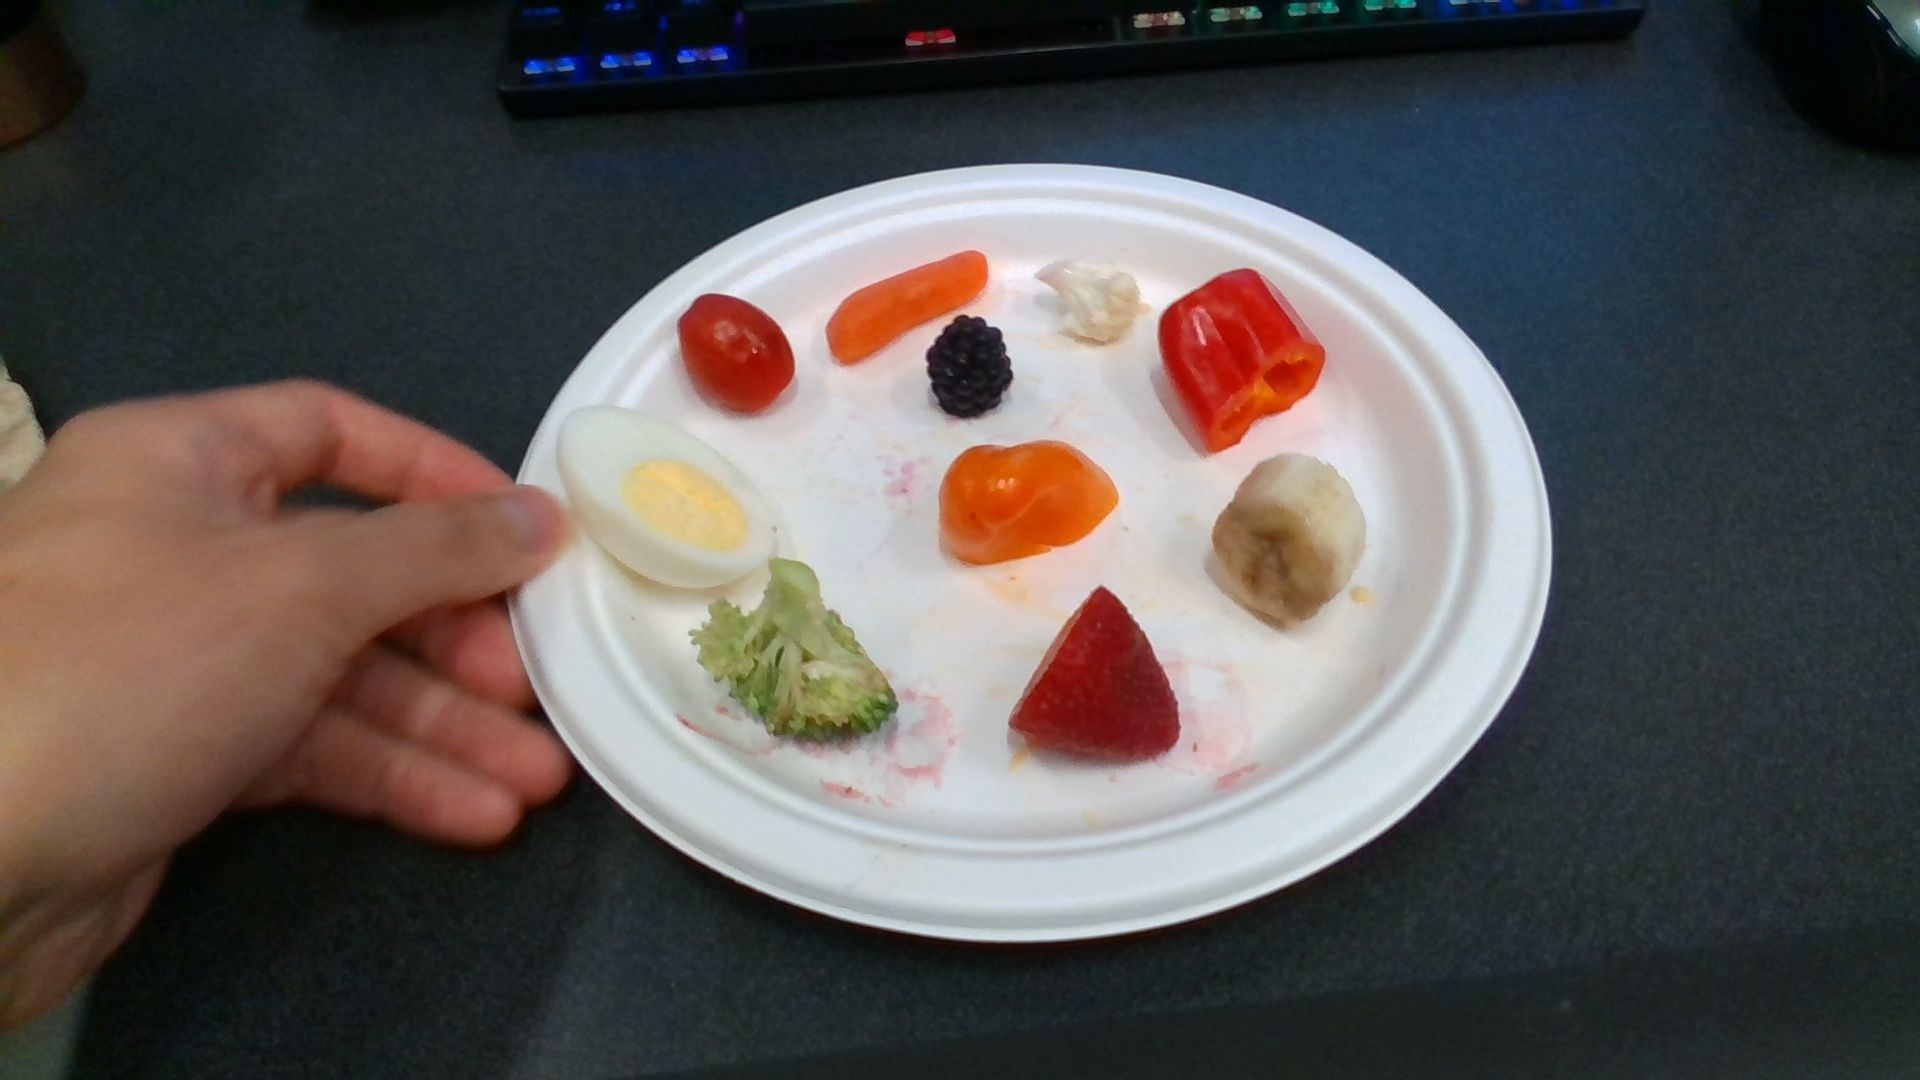banana: (1215, 456, 1362, 621)
bell_pepper: (1156, 270, 1323, 446), (938, 440, 1120, 563)
blackberry: (927, 316, 1015, 418)
broccoli: (694, 560, 899, 741)
carrot: (827, 251, 986, 363)
cauliflower: (1035, 258, 1139, 345)
cherry_tomato: (680, 295, 795, 413)
egg: (556, 406, 774, 588)
strawberry: (1010, 589, 1179, 761)
